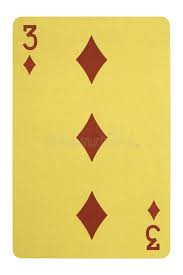three of diamonds: (12, 16, 171, 257)
